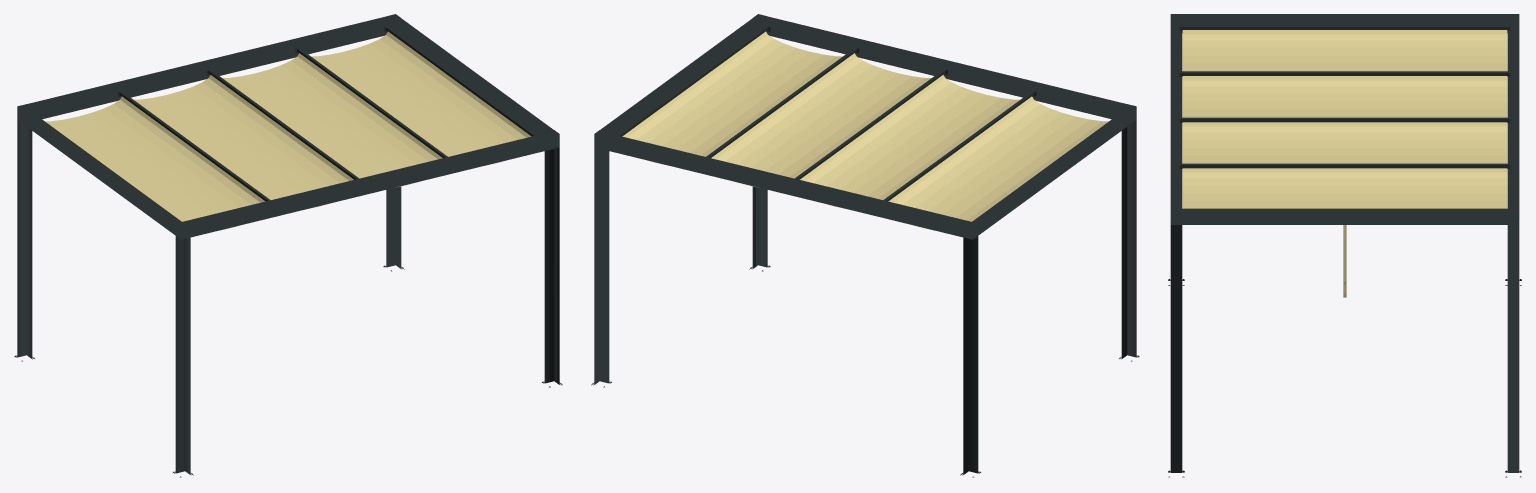
3 renders of one model, left to right at view 1: azimuth 30°, elevation 25°; view 2: azimuth 150°, elevation 25°; view 3: azimuth 270°, elevation 25°, orthographic. The views are drawn at different scales.
Parts seen in each view (by area): view 1: priximbattable_net_pergola_toile_1535_pergola_toile_et_alumi, Tube_4, Tube_5, Tube_3, Tube_2, barra_4, barra_1, barra_3, barra_2; view 2: priximbattable_net_pergola_toile_1535_pergola_toile_et_alumi, Tube_4, Tube_5, Tube_3, Tube_2, barra_4, barra_1, barra_3, barra_2; view 3: priximbattable_net_pergola_toile_1535_pergola_toile_et_alumi, Tube_3, Tube_4, Tube_5, Tube_2, barra_3, barra_2, barra_1, barra.
Boxes of the visible parts, x1,y1,x2,y2 form: priximbattable_net_pergola_toile_1535_pergola_toile_et_alumi: (14, 14, 562, 477); Tube_4: (134, 75, 353, 208); Tube_5: (45, 96, 265, 230); Tube_3: (222, 53, 442, 187); Tube_2: (311, 31, 531, 165); barra_4: (383, 26, 536, 136); barra_1: (117, 91, 270, 201); barra_3: (295, 47, 447, 157); barra_2: (206, 69, 358, 179); priximbattable_net_pergola_toile_1535_pergola_toile_et_alumi: (591, 14, 1139, 477); Tube_4: (800, 75, 1019, 208); Tube_5: (888, 96, 1108, 230); Tube_3: (711, 53, 931, 187); Tube_2: (622, 31, 842, 165); barra_4: (617, 26, 770, 136); barra_1: (883, 91, 1036, 201); barra_3: (706, 48, 859, 157); barra_2: (795, 69, 947, 179); priximbattable_net_pergola_toile_1535_pergola_toile_et_alumi: (1168, 14, 1521, 477); Tube_3: (1182, 122, 1507, 163); Tube_4: (1182, 76, 1507, 117); Tube_5: (1182, 30, 1507, 71); Tube_2: (1182, 168, 1507, 208); barra_3: (1179, 163, 1510, 168); barra_2: (1179, 117, 1510, 122); barra_1: (1179, 71, 1510, 76); barra: (1179, 25, 1510, 30).
Size of the model in its own units: 404 by 254 by 304.
Materials: 1 (1 with a texture image).
